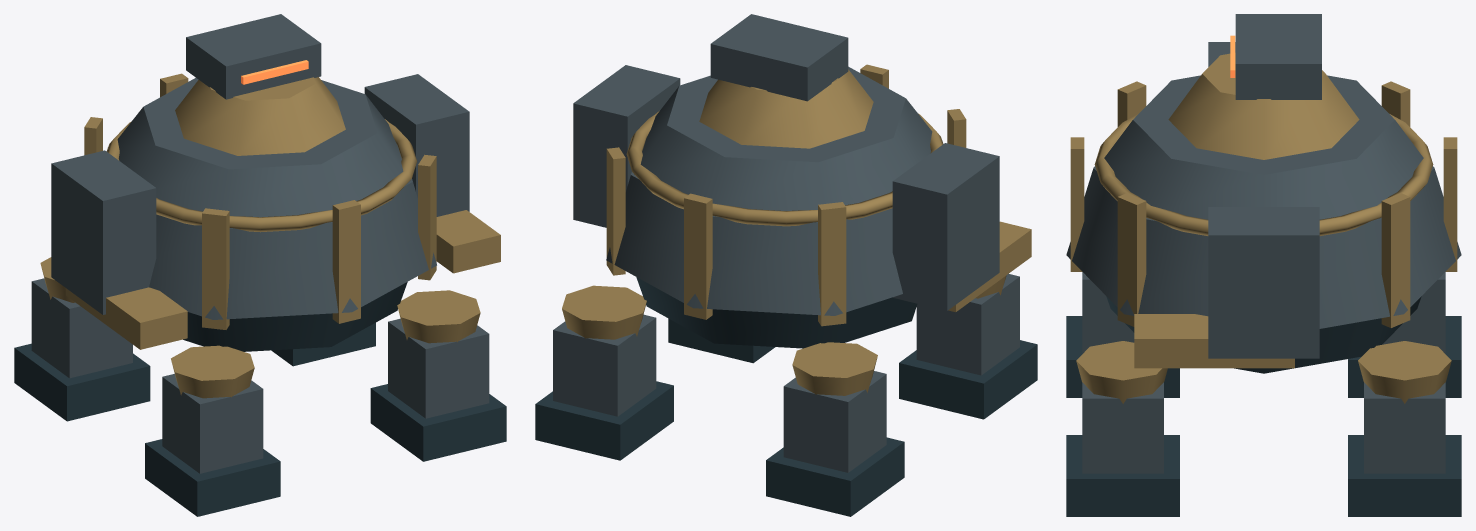
Rendered from regent.glb.
The picture shows the model from 3 angles, left to right: view 1: azimuth 30°, elevation 25°; view 2: azimuth 150°, elevation 25°; view 3: azimuth 270°, elevation 25°; orthographic projection. The views are drawn at different scales.
Parts seen in each view (by area): view 1: stone (×4), armour_shoulder (×2), armour_leg (×3), foot (×4), armour_seam (×4), joint (×3), head, ram (×2), inlay, eyes; view 2: stone (×4), armour_shoulder (×2), armour_leg (×3), foot (×4), armour_seam (×4), head, joint (×2), inlay, ram; view 3: stone (×4), armour_leg (×4), armour_shoulder, foot (×4), armour_seam (×6), joint (×2), head, ram, inlay.
Boxes of the visible parts, left/top/right/bottom form: stone (×4): left=106, top=77, right=436, bottom=351; armour_shoulder (×2): left=51, top=74, right=469, bottom=314; armour_leg (×3): left=31, top=278, right=489, bottom=473; foot (×4): left=14, top=322, right=506, bottom=516; armour_seam (×4): left=84, top=117, right=436, bottom=329; joint (×3): left=40, top=257, right=480, bottom=398; head: left=186, top=14, right=321, bottom=99; ram (×2): left=66, top=210, right=500, bottom=349; inlay: left=107, top=119, right=416, bottom=232; eyes: left=241, top=60, right=308, bottom=84; stone (×4): left=606, top=66, right=943, bottom=348; armour_shoulder (×2): left=573, top=65, right=999, bottom=310; armour_leg (×3): left=553, top=273, right=1019, bottom=472; foot (×4): left=535, top=318, right=1037, bottom=516; armour_seam (×4): left=606, top=109, right=966, bottom=326; head: left=710, top=14, right=848, bottom=101; joint (×2): left=562, top=285, right=877, bottom=395; inlay: left=626, top=111, right=942, bottom=226; ram: left=948, top=221, right=1031, bottom=312; stone (×4): left=1066, top=53, right=1461, bottom=373; armour_leg (×4): left=1082, top=272, right=1445, bottom=473; armour_shoulder: left=1208, top=207, right=1319, bottom=358; foot (×4): left=1066, top=316, right=1461, bottom=516; armour_seam (×6): left=1070, top=81, right=1457, bottom=327; joint (×2): left=1076, top=341, right=1451, bottom=403; head: left=1235, top=14, right=1321, bottom=99; ram: left=1134, top=314, right=1294, bottom=368; inlay: left=1094, top=114, right=1433, bottom=235.
Size of the model in its own units: 1.85 by 1.77 by 1.6.
